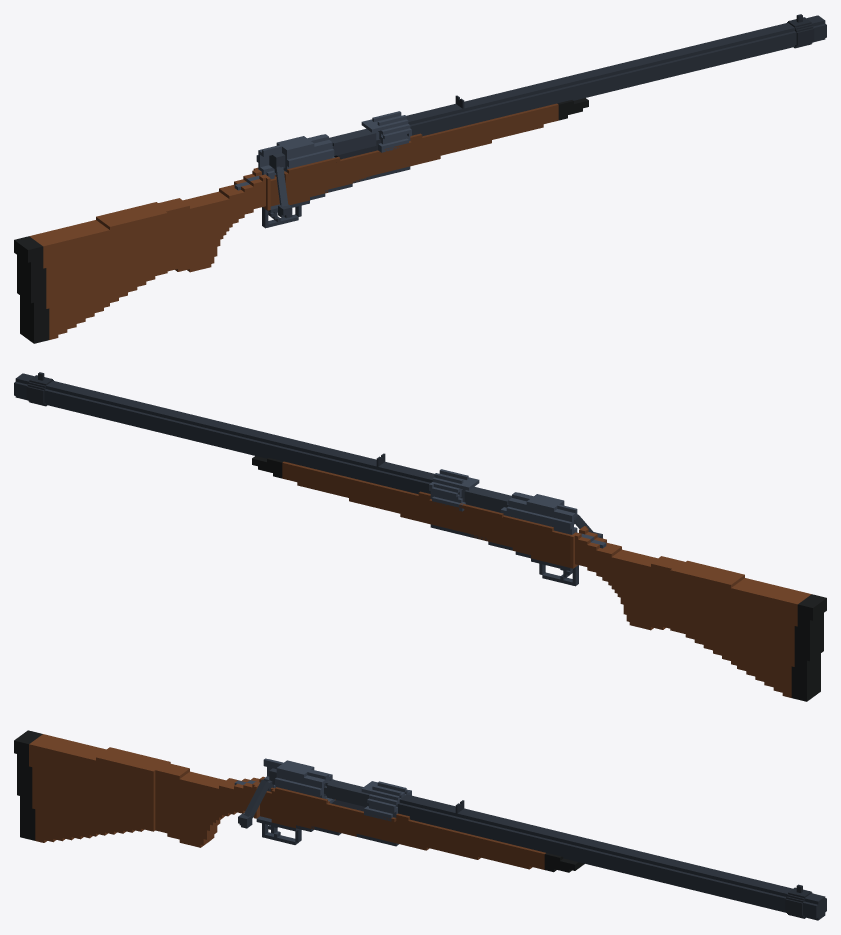
File: rifle_hunting.glb
The picture shows the model from 3 angles, top to bottom: view 1: azimuth 30°, elevation 25°; view 2: azimuth 150°, elevation 25°; view 3: azimuth 330°, elevation 25°; orthographic projection.
Visible parts, largest first — view 1: stock:stock, barrel:barrel, handguard:handguard, receiver:receiver, bolt-carrier:bolt-carrier, lower:lower; view 2: stock:stock, barrel:barrel, handguard:handguard, receiver:receiver, lower:lower, bolt-carrier:bolt-carrier; view 3: stock:stock, barrel:barrel, handguard:handguard, receiver:receiver, lower:lower, bolt-carrier:bolt-carrier, front-sight:front-sight, bolt-handle-arm:bolt-handle-arm.
Part boxes in pixels (x1=…): stock:stock: x1=14, y1=168, x2=270, y2=343; barrel:barrel: x1=406, y1=15, x2=826, y2=136; handguard:handguard: x1=257, y1=98, x2=588, y2=206; receiver:receiver: x1=234, y1=111, x2=411, y2=190; bolt-carrier:bolt-carrier: x1=269, y1=128, x2=376, y2=172; lower:lower: x1=262, y1=166, x2=410, y2=228; stock:stock: x1=570, y1=526, x2=826, y2=701; barrel:barrel: x1=14, y1=373, x2=434, y2=494; handguard:handguard: x1=252, y1=456, x2=571, y2=567; receiver:receiver: x1=429, y1=469, x2=606, y2=548; lower:lower: x1=430, y1=524, x2=578, y2=586; bolt-carrier:bolt-carrier: x1=464, y1=486, x2=575, y2=524; stock:stock: x1=14, y1=730, x2=264, y2=847; barrel:barrel: x1=398, y1=794, x2=826, y2=920; handguard:handguard: x1=260, y1=787, x2=584, y2=872; receiver:receiver: x1=234, y1=758, x2=411, y2=821; lower:lower: x1=256, y1=816, x2=398, y2=846; bolt-carrier:bolt-carrier: x1=267, y1=768, x2=370, y2=806; front-sight:front-sight: x1=785, y1=884, x2=812, y2=918; bolt-handle-arm:bolt-handle-arm: x1=243, y1=779, x2=270, y2=818.
Size of the model in its own units: 1.06 by 0.17 by 0.072.
